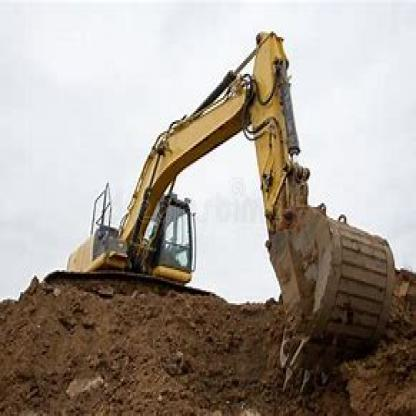excavator: (37, 20, 393, 384)
